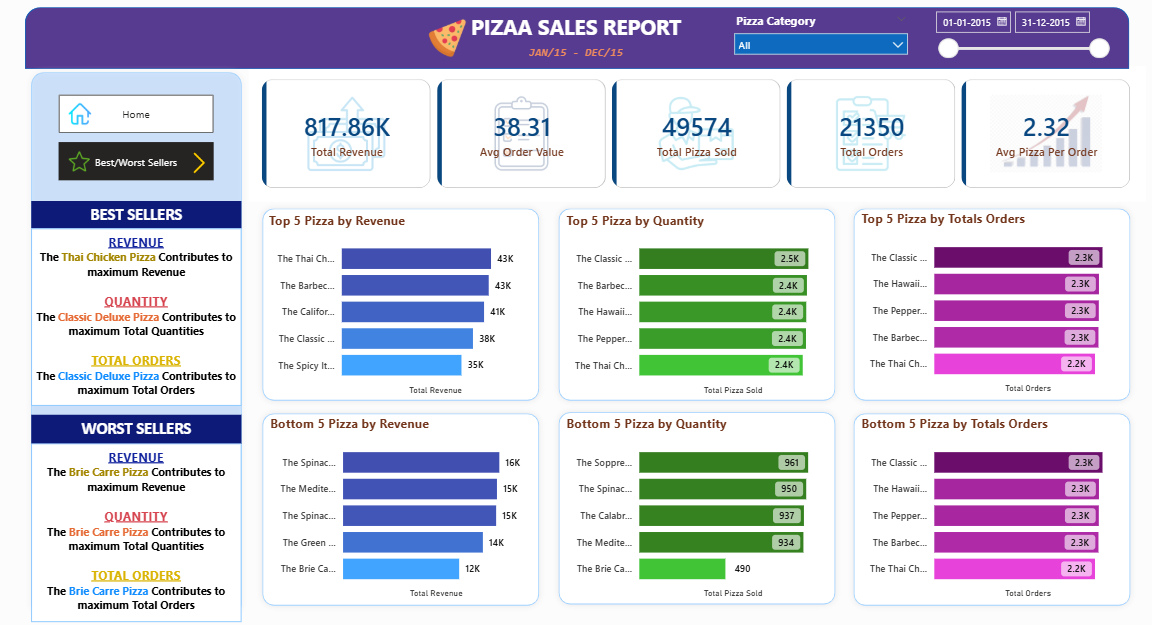

What the dashboard file says about the page in this screenshot:
{"tool":"powerbi","page":{"name":"Best/Worst Sellers","canvas":[1500,820],"ordinal":1},"visuals":[{"type":"cardVisual","fields":{"Data":["pizza_sales.Total Revenue","pizza_sales.Avg Order Value","pizza_sales.Total Pizza Sold","pizza_sales.Total Orders","pizza_sales.Avg Pizza Per Order"]},"box":[325.9,90.5,1154.5,174.1],"z":0},{"type":"shape","box":[39,13.9,1420.5,79.4],"z":1000},{"type":"textbox","box":[582.1,16.7,338.4,51.5],"z":2000},{"type":"textbox","box":[682.4,57.1,139.3,33.4],"z":3000},{"type":"image","box":[544.5,29.2,73.8,50.1],"z":4000},{"type":"shape","box":[335.6,266,371.8,263.2],"z":5000},{"type":"shape","box":[39,90.5,286.9,715.8],"z":6000},{"type":"textbox","box":[46.6,263.7,270.2,35.4],"z":7000},{"type":"textbox","box":[46.6,299.1,270.2,228.3],"z":8000},{"type":"textbox","box":[46.6,575.7,270.2,230],"z":9000},{"type":"textbox","box":[46.6,538.7,270.2,37],"z":10000},{"type":"slicer","fields":{"Values":["pizza_sales.pizza_category"]},"box":[941.4,16.7,243.7,68.2],"z":11000},{"type":"slicer","fields":{"Values":["pizza_sales.order_date"]},"box":[1197.7,9.7,243.7,83.6],"z":12000},{"type":"shape","box":[717.2,266,371.8,263.2],"z":13000},{"type":"shape","box":[1097.4,264.6,371.8,263.2],"z":14000},{"type":"shape","box":[335.6,529.2,371.8,263.2],"z":15000},{"type":"shape","box":[717.2,527.8,371.8,263.2],"z":16000},{"type":"shape","box":[1097.4,529.2,371.8,263.2],"z":17000},{"type":"barChart","title":"Top 5 Pizza by Revenue","fields":{"Category":["pizza_sales.pizza_name"],"Y":["pizza_sales.Total Revenue"]},"box":[347.3,276.6,345.7,241.2],"z":18000},{"type":"barChart","title":"Bottom 5 Pizza by Revenue","fields":{"Category":["pizza_sales.pizza_name"],"Y":["pizza_sales.Total Revenue"]},"box":[349,538.7,344.1,241.2],"z":19000},{"type":"barChart","title":"Top 5 Pizza by Quantity","fields":{"Category":["pizza_sales.pizza_name"],"Y":["pizza_sales.Total Pizza Sold"]},"box":[730.1,276.6,345.7,241.2],"z":20000},{"type":"barChart","title":"Bottom 5 Pizza by Quantity","fields":{"Category":["pizza_sales.pizza_name"],"Y":["pizza_sales.Total Pizza Sold"]},"box":[730.1,538.7,345.7,241.2],"z":21000},{"type":"barChart","title":"Top 5 Pizza by Totals Orders","fields":{"Category":["pizza_sales.pizza_name"],"Y":["pizza_sales.Total Orders"]},"box":[1109.6,275,345.7,241.2],"z":22000},{"type":"barChart","title":"Bottom 5 Pizza by Totals Orders","fields":{"Category":["pizza_sales.pizza_name"],"Y":["pizza_sales.Total Orders"]},"box":[1109.6,538.7,345.7,241.2],"z":23000},{"type":"pageNavigator","box":[82,127,199.4,49.9],"z":24000},{"type":"pageNavigator","box":[82,188.1,199.4,49.9],"z":25000},{"type":"image","box":[94.9,98.1,28.9,107.7],"z":27000},{"type":"image","box":[94.9,159.2,27.3,107.7],"z":28000},{"type":"image","box":[221.9,201,82,27.3],"z":28001}]}

Visuals, with their boxes in screenshot pixels (x1, y1, x2, y2), scaled from the page's 1500x820 canvas onto the 1152x625 screenshot:
cardVisual - pizza_sales.Total Revenue x pizza_sales.Avg Order Value: l=250, t=69, r=1137, b=202
shape: l=30, t=11, r=1121, b=71
textbox: l=447, t=13, r=707, b=52
textbox: l=524, t=44, r=631, b=69
image: l=418, t=22, r=475, b=60
shape: l=258, t=203, r=543, b=403
shape: l=30, t=69, r=250, b=615
textbox: l=36, t=201, r=243, b=228
textbox: l=36, t=228, r=243, b=402
textbox: l=36, t=439, r=243, b=614
textbox: l=36, t=411, r=243, b=439
slicer - pizza_sales.pizza_category: l=723, t=13, r=910, b=65
slicer - pizza_sales.order_date: l=920, t=7, r=1107, b=71
shape: l=551, t=203, r=836, b=403
shape: l=843, t=202, r=1128, b=402
shape: l=258, t=403, r=543, b=604
shape: l=551, t=402, r=836, b=603
shape: l=843, t=403, r=1128, b=604
"Top 5 Pizza by Revenue" barChart: l=267, t=211, r=532, b=395
"Bottom 5 Pizza by Revenue" barChart: l=268, t=411, r=532, b=594
"Top 5 Pizza by Quantity" barChart: l=561, t=211, r=826, b=395
"Bottom 5 Pizza by Quantity" barChart: l=561, t=411, r=826, b=594
"Top 5 Pizza by Totals Orders" barChart: l=852, t=210, r=1118, b=393
"Bottom 5 Pizza by Totals Orders" barChart: l=852, t=411, r=1118, b=594
pageNavigator: l=63, t=97, r=216, b=135
pageNavigator: l=63, t=143, r=216, b=181
image: l=73, t=75, r=95, b=157
image: l=73, t=121, r=94, b=203
image: l=170, t=153, r=233, b=174
